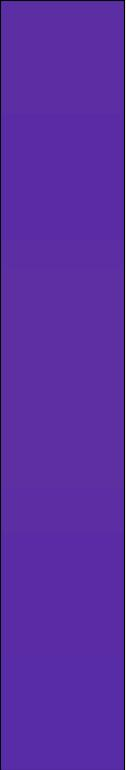safe: (10, 6, 118, 755)
